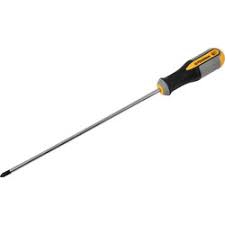Screwdriver: (3, 44, 225, 182)
